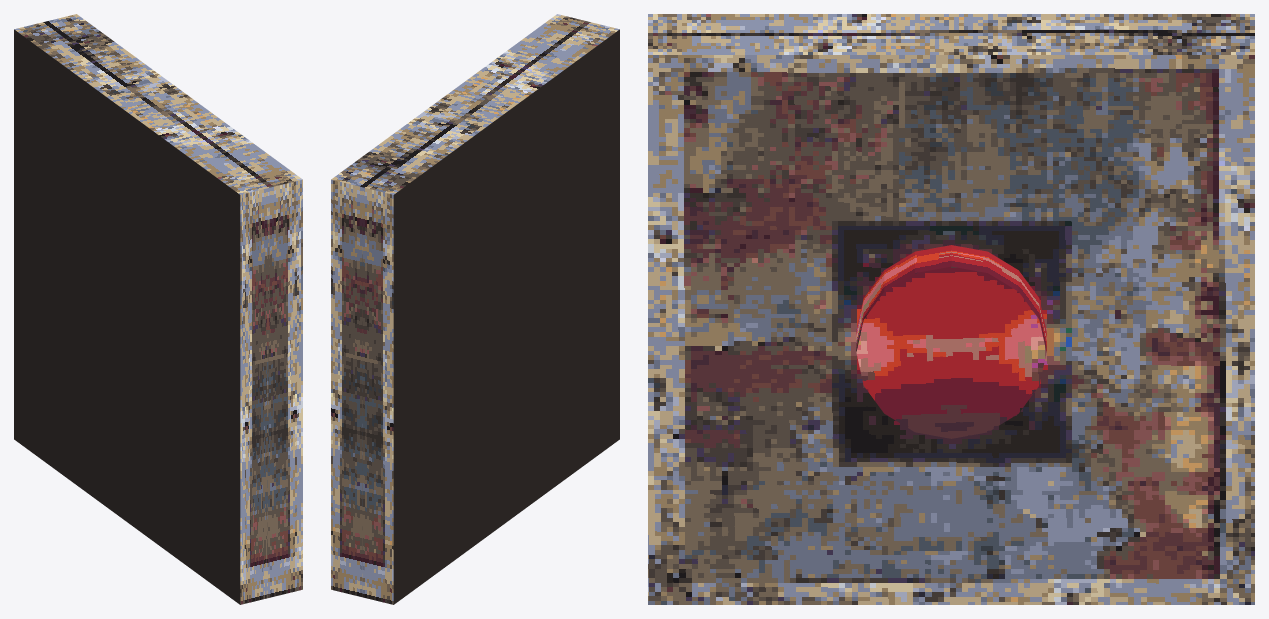
Rendered from butaoneutro.glb.
The picture shows the model from 3 angles, left to right: view 1: azimuth 30°, elevation 25°; view 2: azimuth 150°, elevation 25°; view 3: azimuth 270°, elevation 25°; orthographic projection. The views are drawn at different scales.
Visible parts, largest first — view 1: Cube; view 2: Cube; view 3: Cube, Cylinder.
Part boxes in pixels (x1,y1,x2,y2): Cube: (14,14,302,604); Cube: (331,14,619,604); Cube: (648,14,1254,604); Cylinder: (856,245,1046,438).
Size of the model in its own units: 0.2411 by 0.9873 by 0.9873.
1 material, 1 textured.
